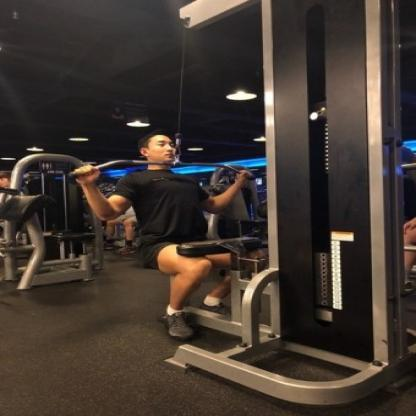Lat Pull Down: (8, 0, 416, 416)
